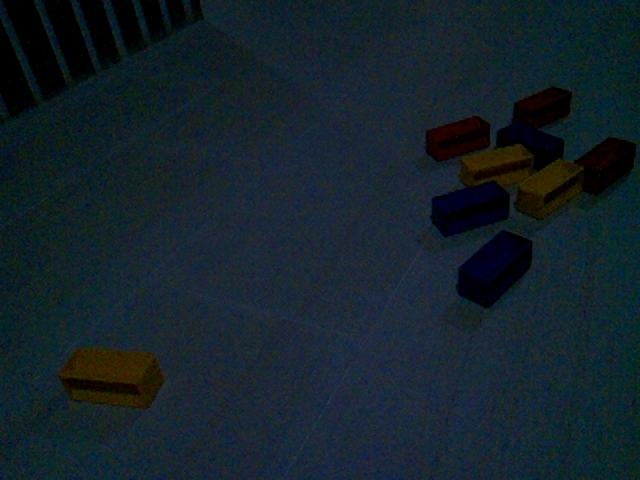blue: (455, 229, 535, 309), (429, 179, 512, 238), (495, 120, 565, 170)
red: (574, 135, 637, 197), (424, 114, 492, 163), (512, 84, 574, 129)
yellow: (58, 345, 167, 411), (514, 157, 585, 221), (458, 142, 534, 187)
